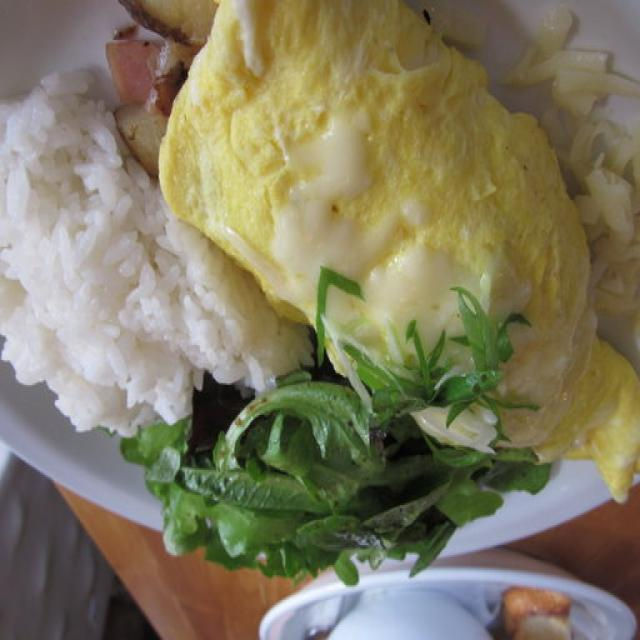telur_ayam_dadar: (156, 1, 640, 507)
